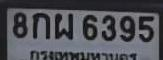3: (101, 14, 115, 40)
5: (138, 15, 153, 41)
6: (82, 14, 96, 39)
8: (12, 11, 26, 37)
9: (119, 15, 134, 41)
A01: (32, 12, 49, 38)
A28: (54, 12, 72, 38)
